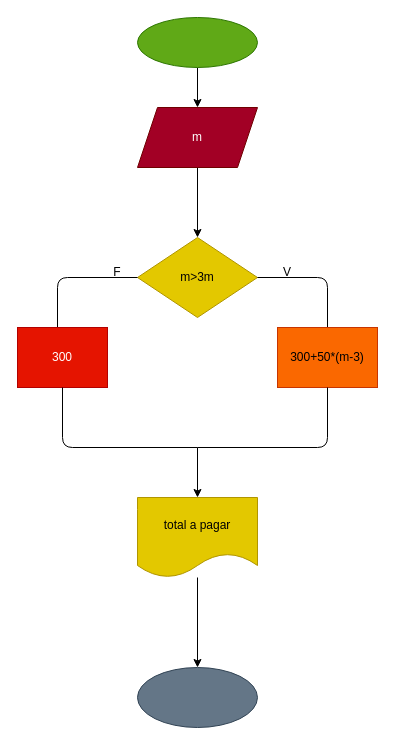
This 395x745 diagram has some shape labels left out. The shapes that lost their labels are listed below. From the top down, each one's box as (x1, y1, x2, y2) in pixels, then its label:
(136, 16, 258, 68): inicio
(136, 666, 258, 728): FIN
